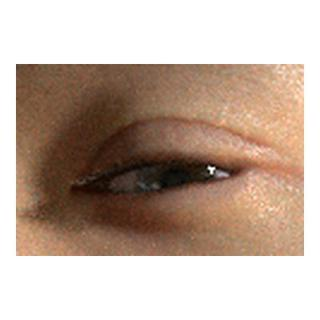pupil: (162, 170, 191, 198)
